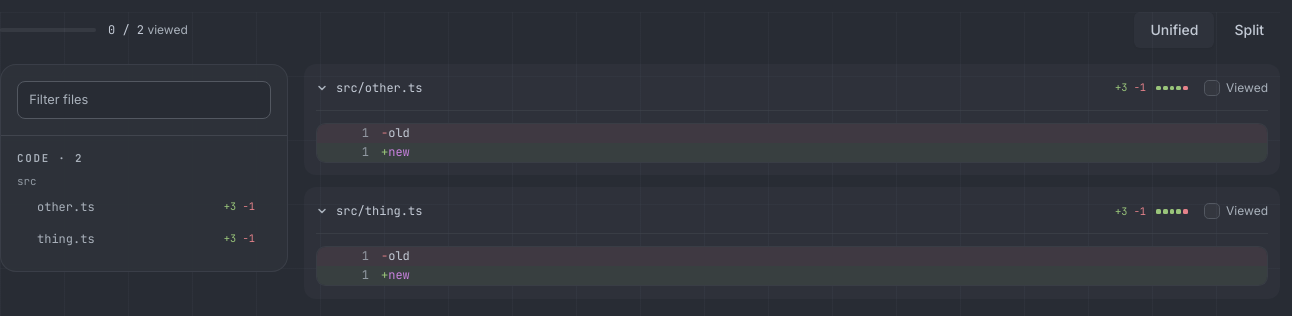
it: FilesChangedScreen (REQ-916) › narrows the tree and the diffs, and leaves the pass counting everything — AC-998
Type "other" into the search field labelled "Filter files" at (144, 100), box left=17, top=81, right=271, bottom=119
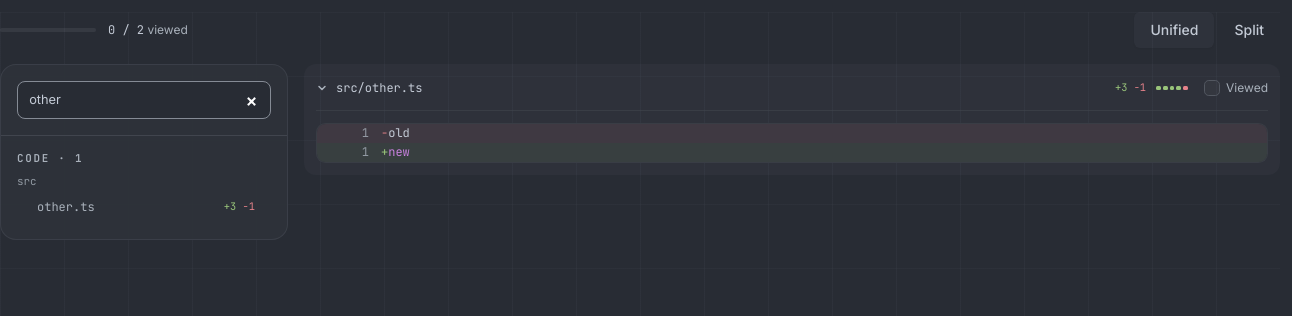
Expected: the button "other.ts +3 −1" is shown, left=9, top=191, right=263, bottom=223
Now the button "thing.ts" is gone
